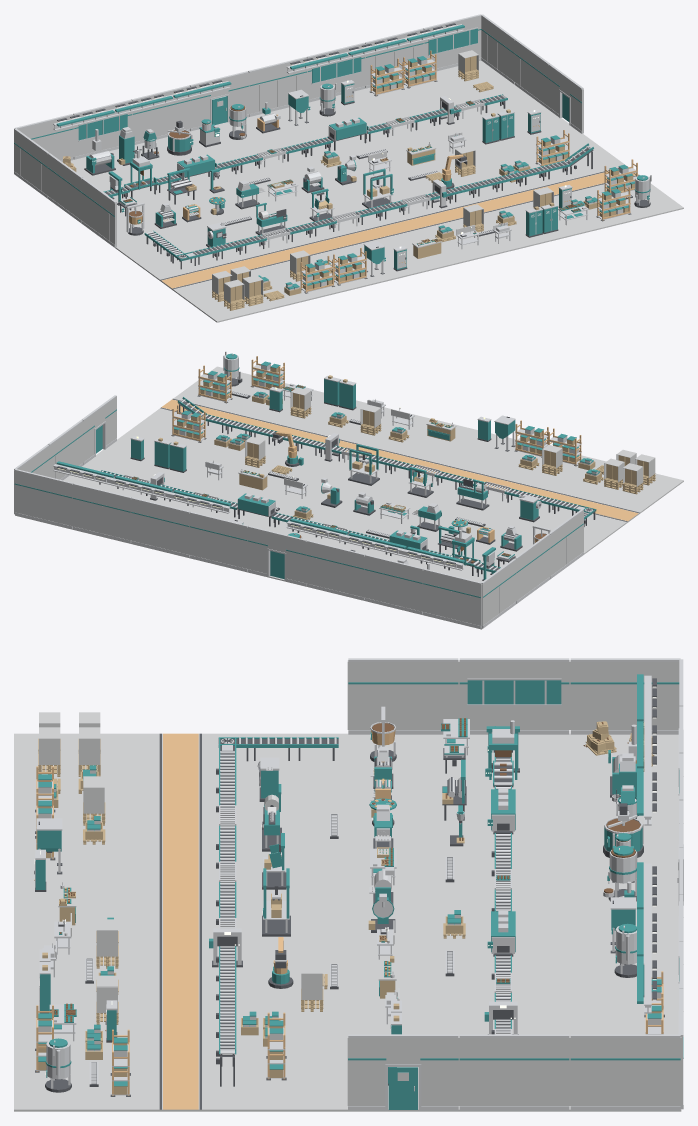
Rendered from automated-food-processing-confectionery-line.glb.
The picture shows the model from 3 angles, top to bottom: view 1: azimuth 30°, elevation 25°; view 2: azimuth 150°, elevation 25°; view 3: azimuth 270°, elevation 25°; orthographic projection. The views are drawn at different scales.
Visible parts, largest first — view 1: 052-factory-wall-panel/0, 050-factory-wall-panel/0, 024-factory-floor-tile/0, 011-factory-floor-tile/0, 058-factory-wall-panel/0, 060-factory-wall-panel/0, 057-factory-wall-window-panel/0, 004-factory-floor-tile/0, 005-factory-floor-tile/0, 051-factory-wall-door-panel/0, 056-factory-wall-panel/0, 059-factory-wall-panel/0 (+61 smaller); view 2: 049-factory-wall-window-panel/0, 048-factory-wall-panel/0, 053-factory-wall-window-panel/0, 054-factory-wall-panel/0, 050-factory-wall-panel/0, 055-factory-wall-window-panel/0, 052-factory-wall-panel/0, 051-factory-wall-door-panel/0, 043-factory-floor-tile/0, 023-factory-floor-tile/0, 025-factory-floor-tile/0, 019-factory-floor-tile/0 (+43 smaller); view 3: 059-factory-wall-panel/0, 060-factory-wall-panel/0, 058-factory-wall-panel/0, 056-factory-wall-panel/0, 061-factory-wall-door-panel/0, 031-factory-floor-tile/0, 057-factory-wall-window-panel/0, 043-factory-floor-tile/0, 021-factory-floor-tile/0, 011-factory-floor-tile/0, 025-factory-floor-tile/0, 010-factory-floor-tile/0 (+65 smaller).
Boxes of the visible parts, x1=… form: 052-factory-wall-panel/0: x1=249, y1=59, x2=307, y2=114; 050-factory-wall-panel/0: x1=132, y1=87, x2=190, y2=141; 024-factory-floor-tile/0: x1=116, y1=233, x2=207, y2=272; 011-factory-floor-tile/0: x1=224, y1=141, x2=315, y2=179; 058-factory-wall-panel/0: x1=81, y1=179, x2=116, y2=244; 060-factory-wall-panel/0: x1=514, y1=41, x2=548, y2=105; 057-factory-wall-window-panel/0: x1=47, y1=155, x2=81, y2=219; 004-factory-floor-tile/0: x1=249, y1=104, x2=334, y2=141; 005-factory-floor-tile/0: x1=308, y1=88, x2=398, y2=123; 051-factory-wall-door-panel/0: x1=190, y1=73, x2=248, y2=128; 056-factory-wall-panel/0: x1=14, y1=130, x2=47, y2=195; 059-factory-wall-panel/0: x1=481, y1=16, x2=514, y2=81; 049-factory-wall-window-panel/0: x1=364, y1=556, x2=422, y2=611; 048-factory-wall-panel/0: x1=423, y1=570, x2=481, y2=625; 053-factory-wall-window-panel/0: x1=131, y1=499, x2=189, y2=554; 054-factory-wall-panel/0: x1=72, y1=485, x2=130, y2=540; 050-factory-wall-panel/0: x1=306, y1=542, x2=364, y2=597; 055-factory-wall-window-panel/0: x1=14, y1=471, x2=72, y2=526; 052-factory-wall-panel/0: x1=189, y1=514, x2=247, y2=568; 051-factory-wall-door-panel/0: x1=248, y1=528, x2=306, y2=583; 043-factory-floor-tile/0: x1=417, y1=423, x2=506, y2=462; 023-factory-floor-tile/0: x1=84, y1=441, x2=157, y2=478; 025-factory-floor-tile/0: x1=466, y1=501, x2=557, y2=539; 019-factory-floor-tile/0: x1=316, y1=497, x2=407, y2=536; 059-factory-wall-panel/0: x1=570, y1=1036, x2=681, y2=1105; 060-factory-wall-panel/0: x1=459, y1=1036, x2=569, y2=1105; 058-factory-wall-panel/0: x1=347, y1=660, x2=458, y2=729; 056-factory-wall-panel/0: x1=570, y1=660, x2=679, y2=729; 061-factory-wall-door-panel/0: x1=347, y1=1036, x2=458, y2=1105; 031-factory-floor-tile/0: x1=236, y1=1062, x2=347, y2=1111; 057-factory-wall-window-panel/0: x1=459, y1=660, x2=569, y2=729; 043-factory-floor-tile/0: x1=14, y1=874, x2=125, y2=921; 021-factory-floor-tile/0: x1=347, y1=968, x2=458, y2=1015; 011-factory-floor-tile/0: x1=459, y1=874, x2=569, y2=921; 025-factory-floor-tile/0: x1=236, y1=780, x2=347, y2=827; 010-factory-floor-tile/0: x1=459, y1=827, x2=569, y2=874.
Size of the model in its own units: 40.28 by 4.26 by 30.12.
